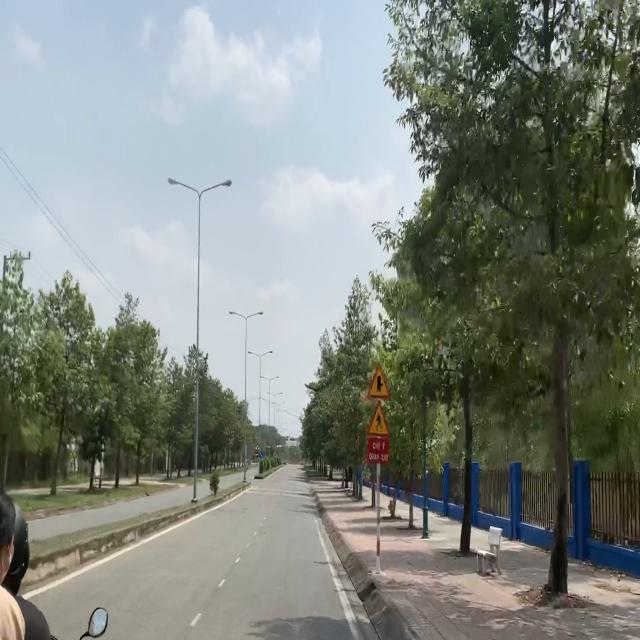Giao voi duong khong uu tien: (368, 363, 390, 399)
Nguoi di bo cat ngang: (367, 400, 389, 437)
